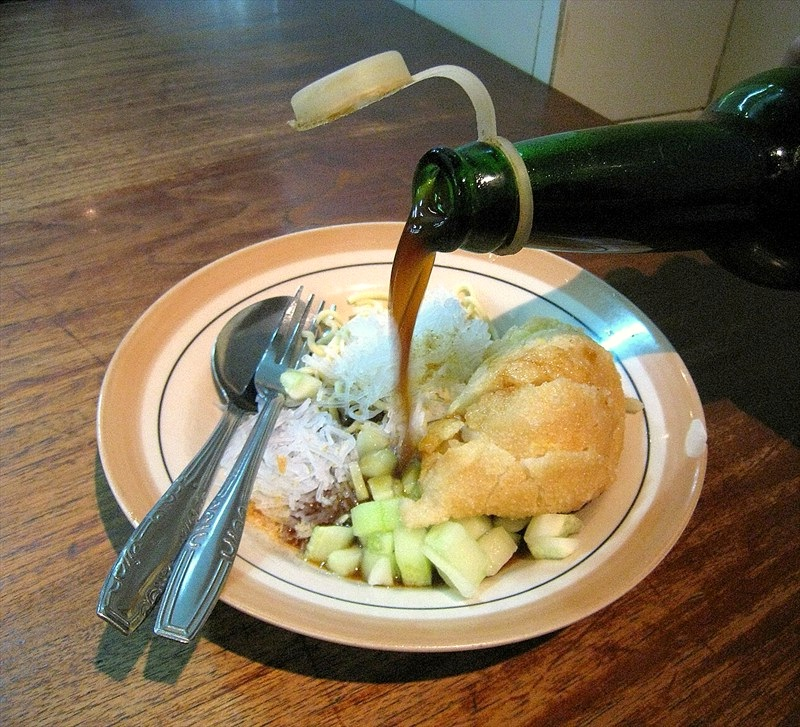Pempek: (137, 217, 673, 631)
